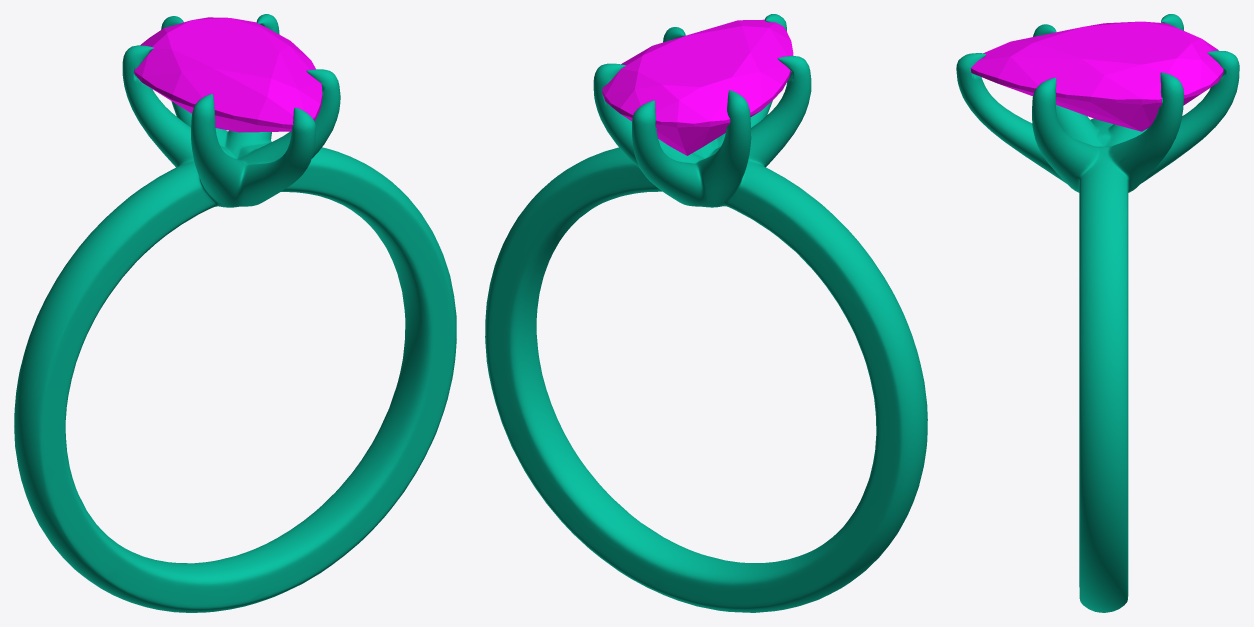
Rendered from BE1FM0126_PE_200ct_RENDER.glb.
3 views of the same model, side by side, from view 1: azimuth 30°, elevation 25°; view 2: azimuth 150°, elevation 25°; view 3: azimuth 270°, elevation 25° (orthographic).
Parts seen in each view (by area): view 1: Metal 01, CS_Diamond_Pear; view 2: Metal 01, CS_Diamond_Pear; view 3: Metal 01, CS_Diamond_Pear.
Part boxes in pixels (box(x1,y1,x2,y2)): Metal 01: box(14, 14, 456, 612); CS_Diamond_Pear: box(134, 17, 322, 132); Metal 01: box(485, 14, 927, 612); CS_Diamond_Pear: box(602, 19, 793, 155); Metal 01: box(956, 14, 1239, 612); CS_Diamond_Pear: box(970, 21, 1223, 131).
Size of the model in its own units: 20.29 by 24.68 by 11.59.
